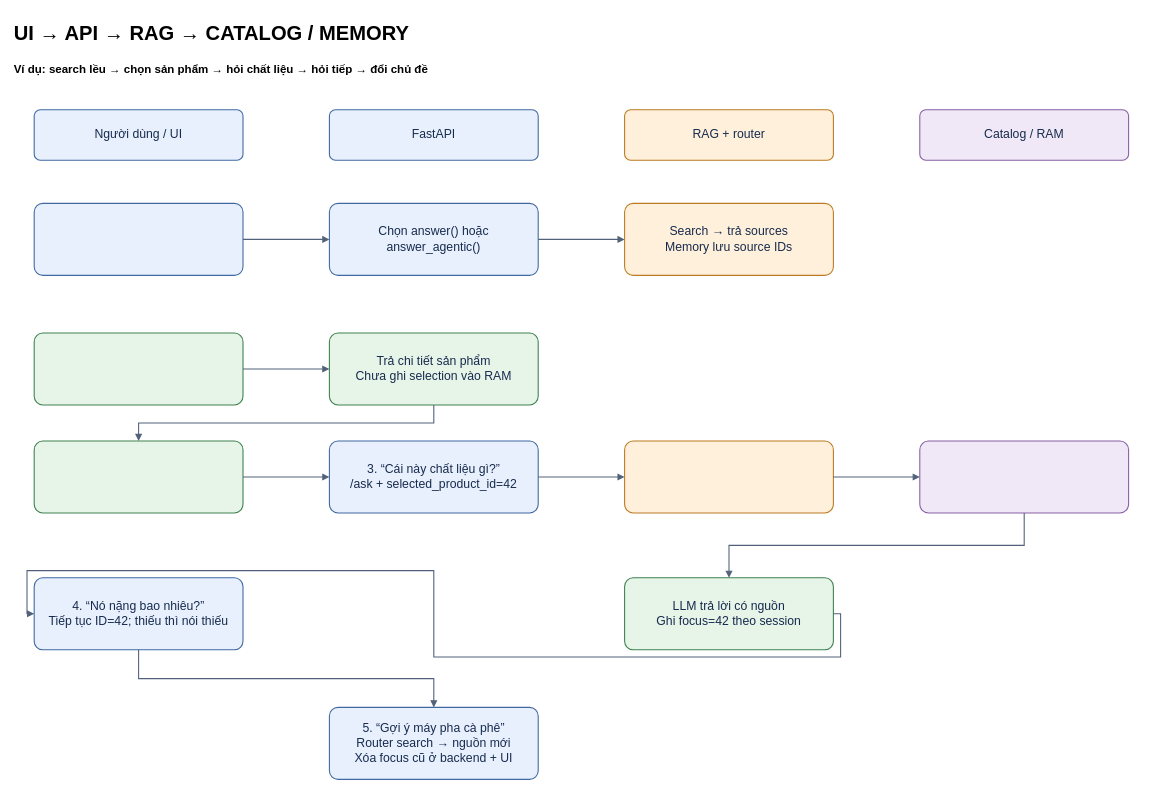
The diagram is 1162 pixels wide and 792 high, and some of its shapes have lost their labels. The shapes that lost their labels are listed below. From the top down, each one's centre as x and y in pixels, then its label:
At point 138,239: "1. “Tìm lều” → /ask q + session_id".
At point 138,368: "2. Bấm thẻ product ID=42 GET /products/42".
At point 138,476: "UI lưu selectedProductId=42 Hiện “Đã chọn”".
At point 729,476: "Router: detail → ID=42 get_product(42)".
At point 1024,476: "Đọc record theo ID brand/category/description".
